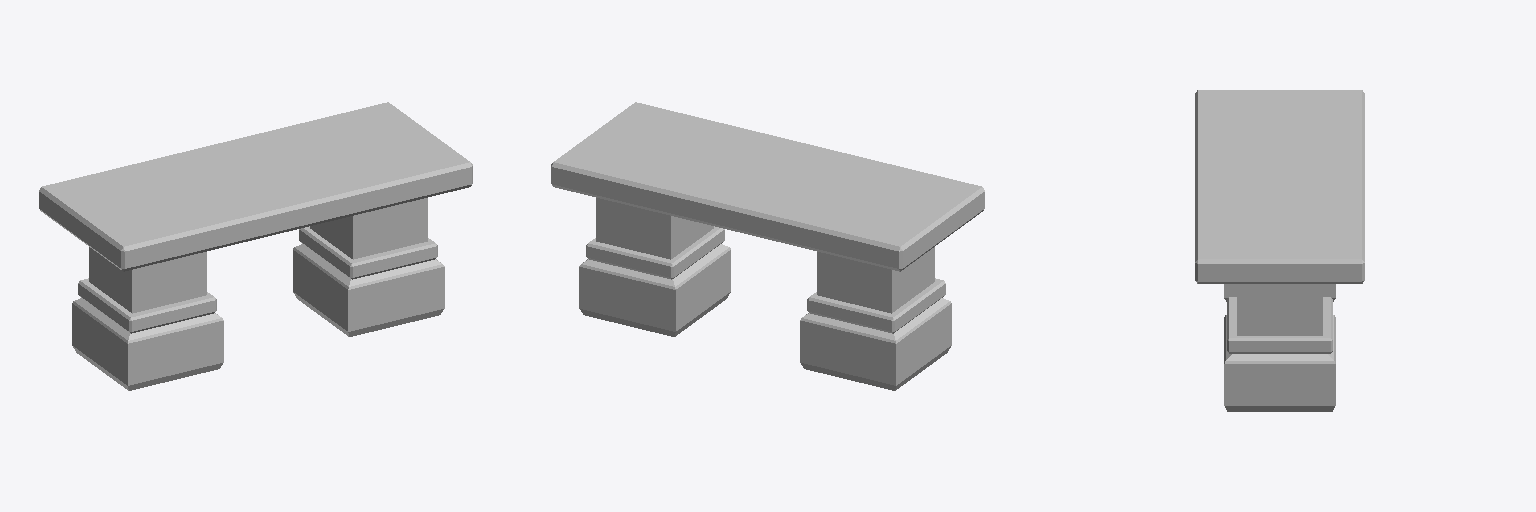
Rendered from hallDesk.obj.
The picture shows the model from 3 angles: view 1: azimuth 30°, elevation 25°; view 2: azimuth 150°, elevation 25°; view 3: azimuth 270°, elevation 25°; orthographic projection.
Parts seen in each view (by area): view 1: halLDesk; view 2: halLDesk; view 3: halLDesk.
Boxes of the visible parts, <box> form: halLDesk: <box>39,102,472,390</box>; halLDesk: <box>551,102,984,390</box>; halLDesk: <box>1195,90,1364,411</box>.
Bounding box in the file's own units: 14.67 × 6.49 × 6.13.